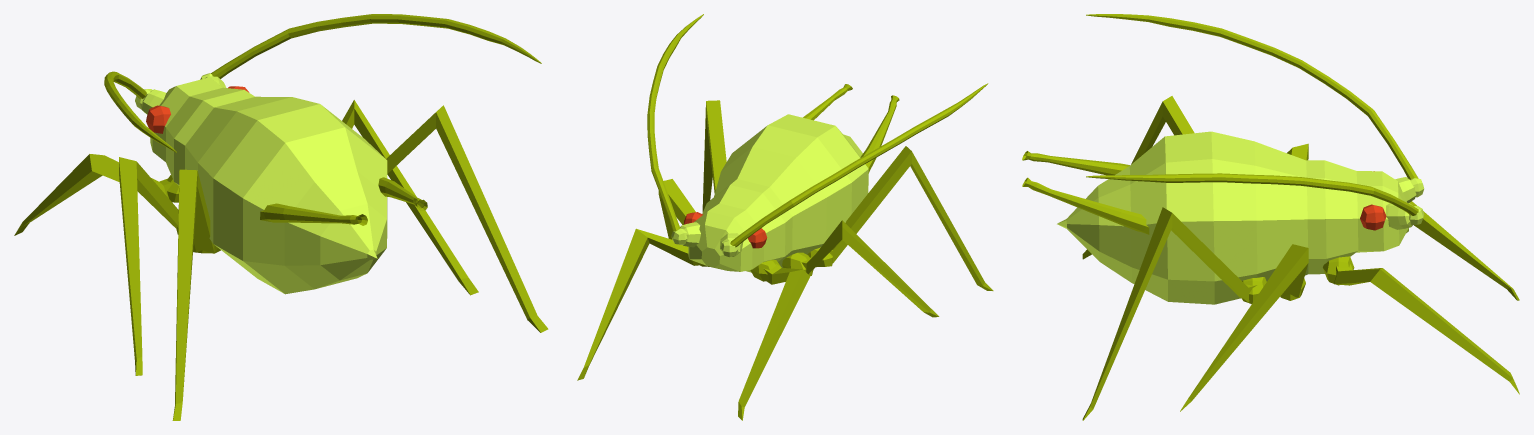
Rendered from Aphid Import.fbx.
The picture shows the model from 3 angles, left to right: view 1: azimuth 30°, elevation 25°; view 2: azimuth 150°, elevation 25°; view 3: azimuth 270°, elevation 25°; orthographic projection. The views are drawn at different scales.
Visible parts, largest first — view 1: body, Cube.004, Cube.005, Circle.002, Cube.006, Circle, lft eye; view 2: body, Cube.006, Cube.004, Circle.002, Cube.005, Circle, Circle.001, Cube; view 3: body, Circle.002, Cube.004, Cube.006, Cube.005, Circle, Circle.001, rt.eye.
Boxes of the visible parts, <box> form: body: <box>150,77,387,294</box>; Cube.004: <box>172,105,548,420</box>; Cube.005: <box>119,100,478,375</box>; Circle.002: <box>104,14,541,152</box>; Cube.006: <box>14,154,173,235</box>; Circle: <box>260,177,427,225</box>; lft eye: <box>146,105,170,133</box>; body: <box>688,114,868,272</box>; Cube.006: <box>577,228,810,420</box>; Cube.004: <box>702,100,993,290</box>; Circle.002: <box>647,14,988,247</box>; Cube.005: <box>658,179,939,317</box>; Circle: <box>803,84,899,173</box>; Circle.001: <box>680,222,743,256</box>; Cube: <box>671,228,738,257</box>; body: <box>1057,131,1408,304</box>; Circle.002: <box>1086,14,1418,215</box>; Cube.004: <box>1082,96,1256,420</box>; Cube.006: <box>1334,201,1519,394</box>; Cube.005: <box>1180,143,1308,411</box>; Circle: <box>1022,151,1149,234</box>; Circle.001: <box>1386,177,1416,229</box>; rt.eye: <box>1360,204,1386,230</box>.
Bounding box in the file's own units: 255 × 180 × 322.
